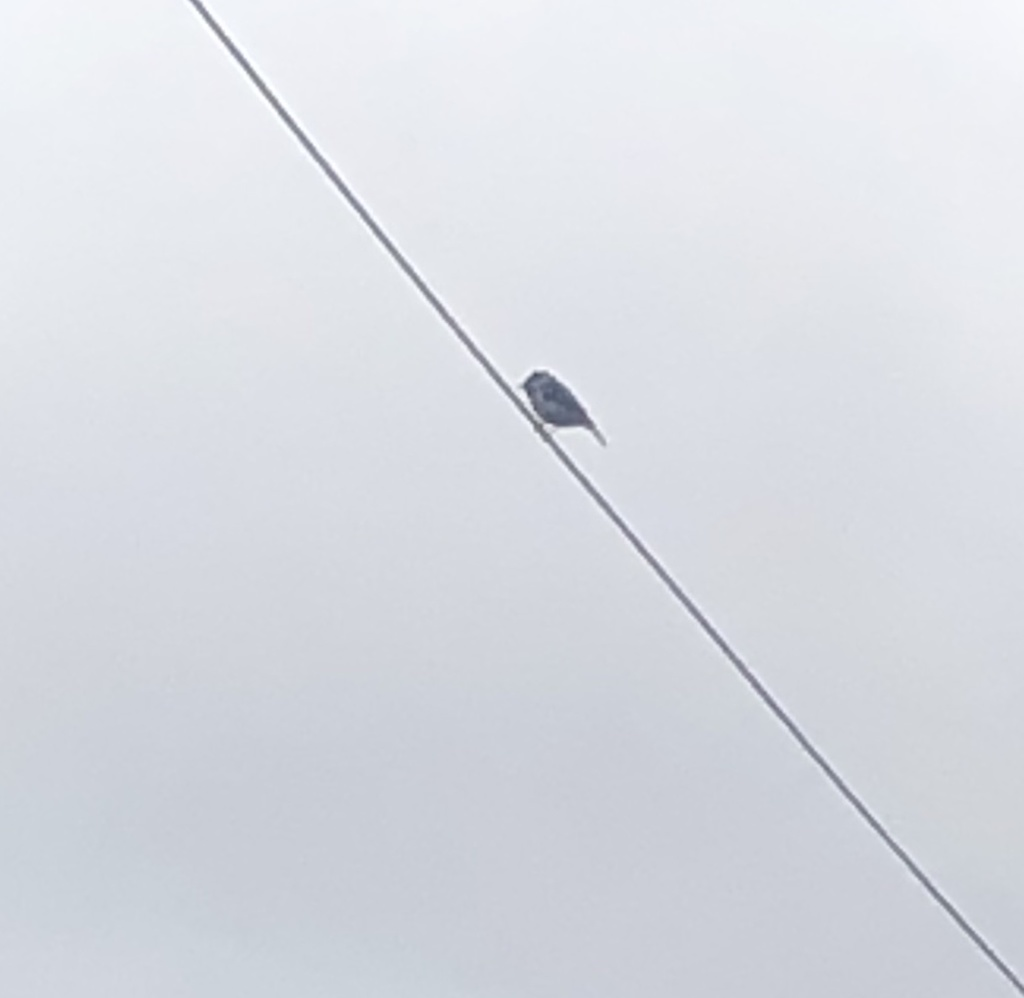Periparus_ater: (516, 369, 608, 448)
